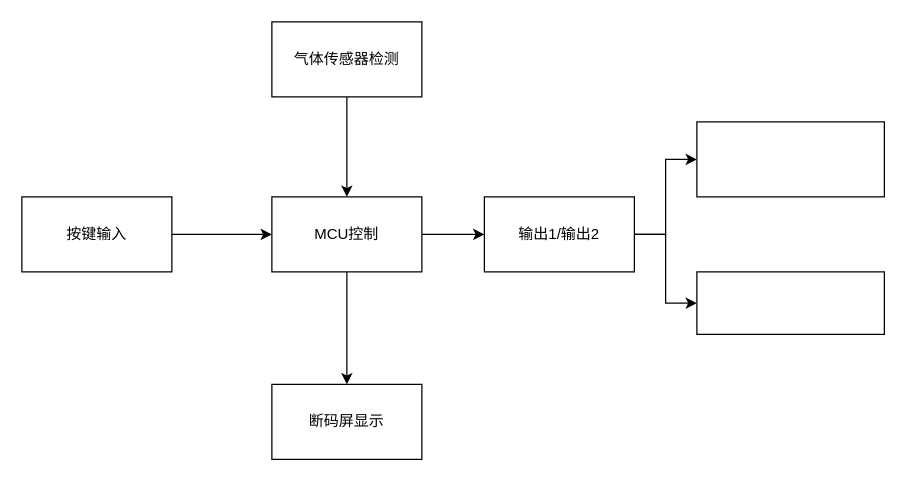
Image size: 906x481. Some labels were removed from this diagram. Here are the shapes that lost their labels. From the top down, the box of each, then its label:
(696, 121, 884, 197): 模拟输出（只存在输出2）
(696, 271, 884, 334): 开关量输出
